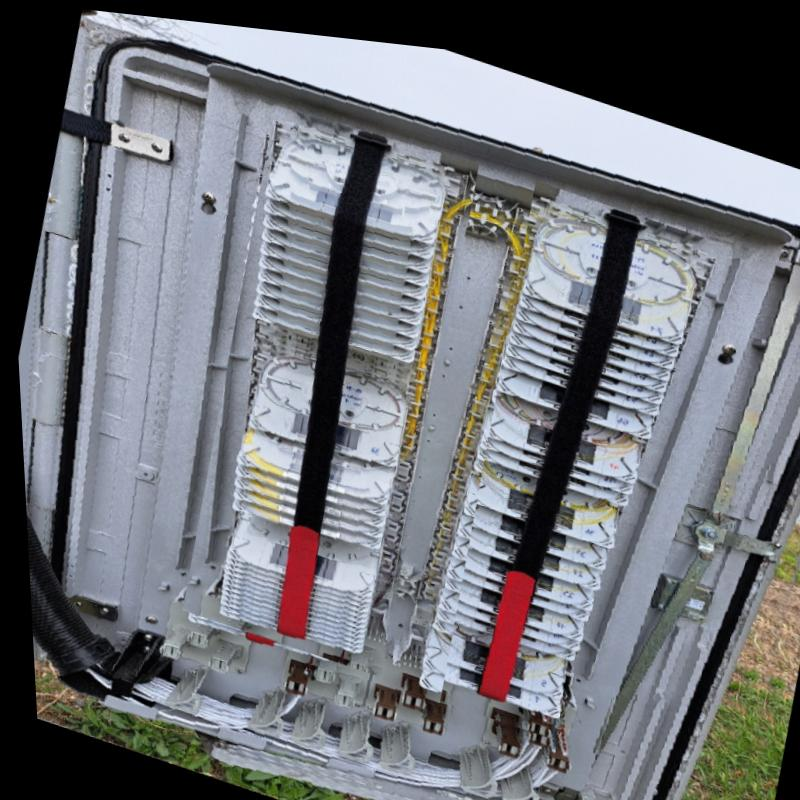NT-Gehause: (14, 7, 800, 800)
Spleiskassetten: (432, 171, 727, 729), (200, 97, 476, 660)
